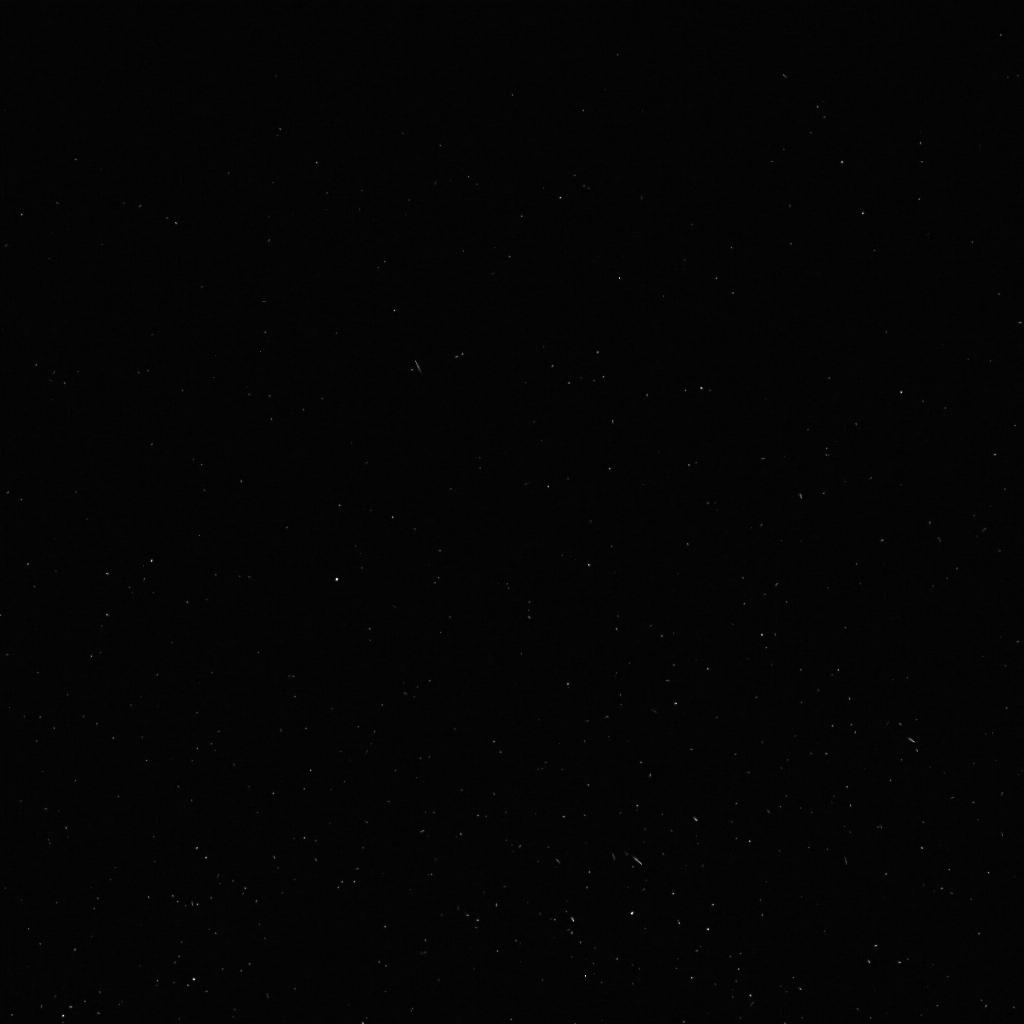Positive: (897, 722, 928, 753), (626, 845, 653, 872), (408, 351, 432, 378)
